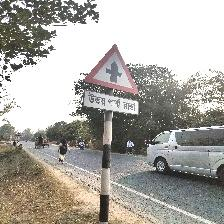Crossroad: (82, 43, 145, 117)
